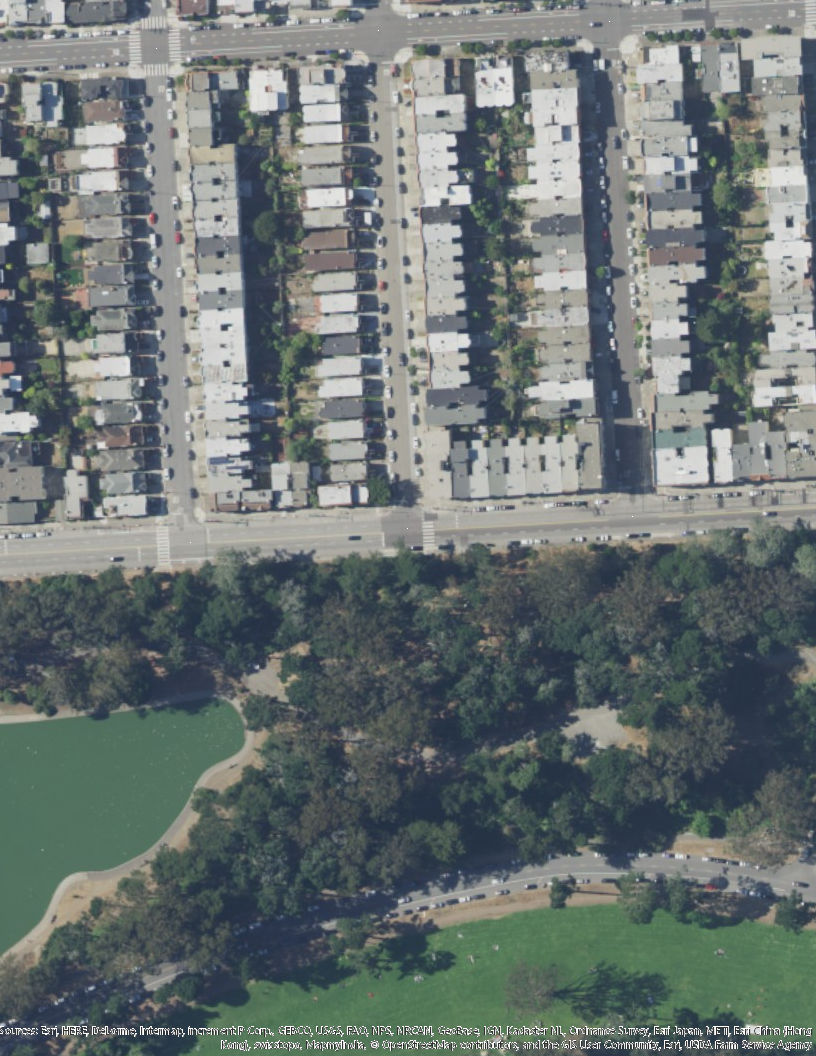zebracross: (156, 526, 172, 567), (126, 30, 143, 67), (166, 31, 182, 63), (422, 512, 435, 550), (141, 15, 167, 33), (140, 63, 170, 77)
